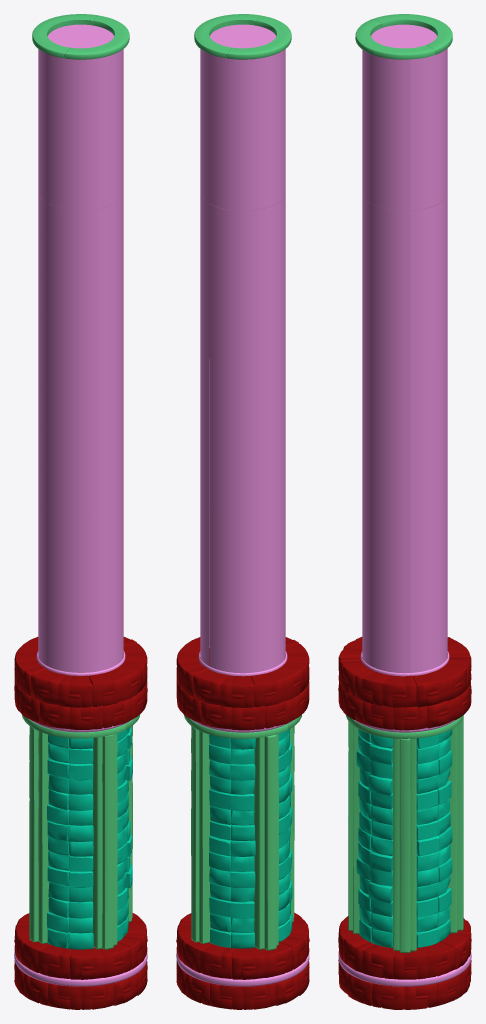
File: column05.fbx
3 views of the same model, side by side, from view 1: azimuth 30°, elevation 25°; view 2: azimuth 210°, elevation 25°; view 3: azimuth 270°, elevation 25° (orthographic).
Parts seen in each view (by area): view 1: column05; view 2: column05; view 3: column05.
Boxes of the visible parts, box(x1,y1,x2,y2) form: column05: box(14, 14, 147, 1009); column05: box(176, 14, 309, 1009); column05: box(338, 14, 471, 1009).
Size of the model in its own units: 2.54 by 19.92 by 2.54.
